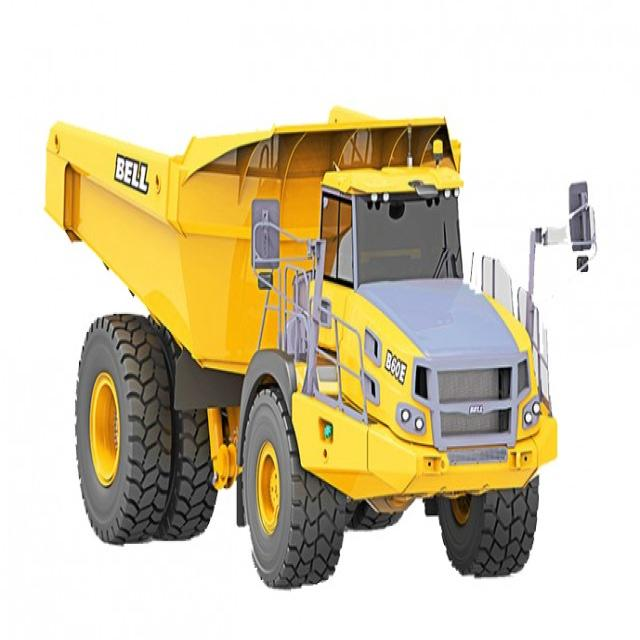dump_truck: (43, 96, 571, 586)
